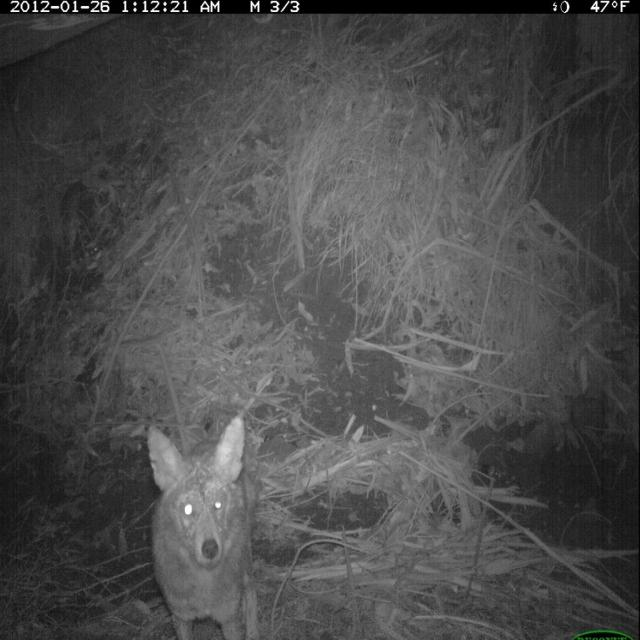coyote: (136, 367, 281, 634)
